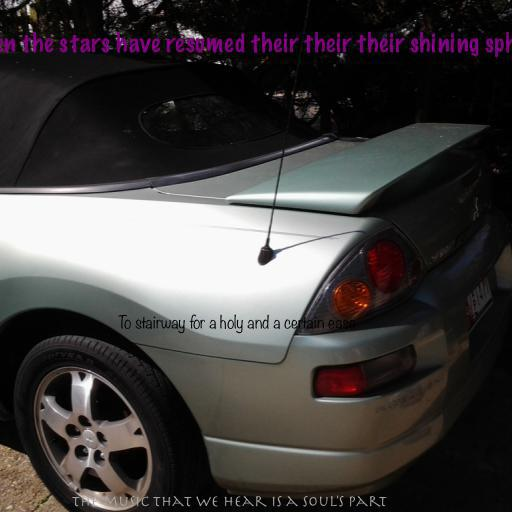Herculanum: (71, 495, 387, 507)
Marker Felt: (0, 31, 512, 58)
Noteworthy: (118, 314, 356, 334)
